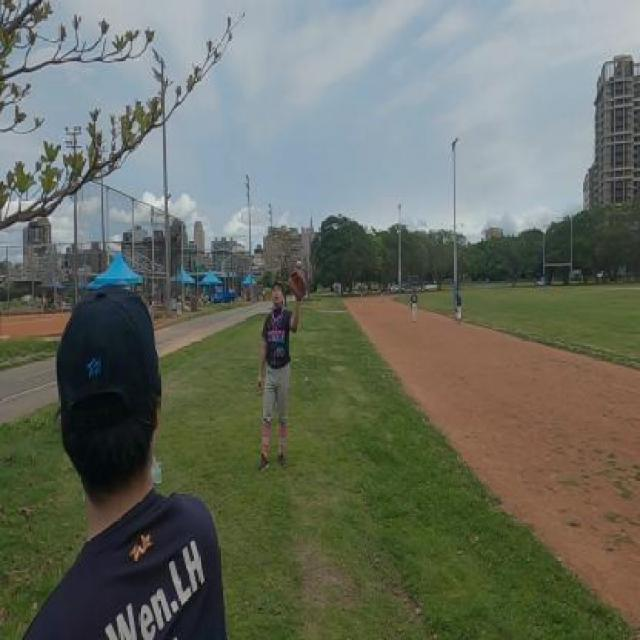ball: (295, 260, 303, 268)
